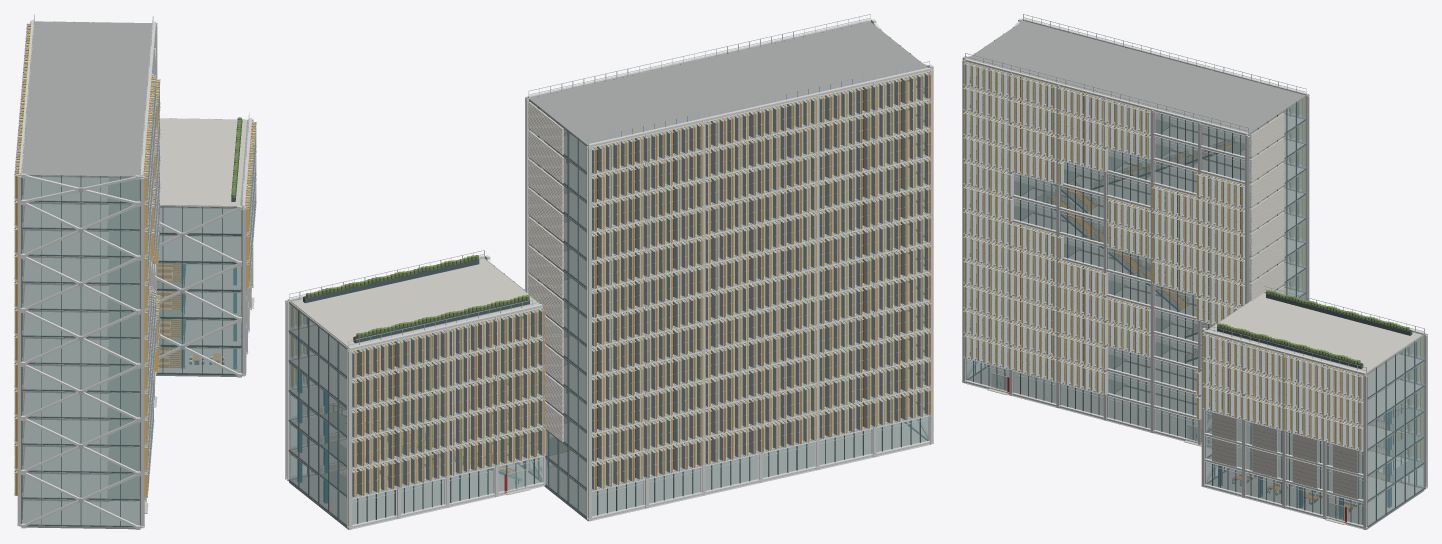
The model's file is cbg-exterior-3af711f968dc.glb.
3 renders of one model, left to right at view 1: azimuth 30°, elevation 25°; view 2: azimuth 150°, elevation 25°; view 3: azimuth 270°, elevation 25°, orthographic. The views are drawn at different scales.
Visible parts, largest first — view 1: CBG.001; view 2: CBG.001; view 3: CBG.001.
Part boxes in pixels (<box>): CBG.001: <box>14,14,256,529</box>; CBG.001: <box>285,14,933,529</box>; CBG.001: <box>962,14,1427,529</box>.
Size of the model in its own units: 66.1 by 53.56 by 68.49.
